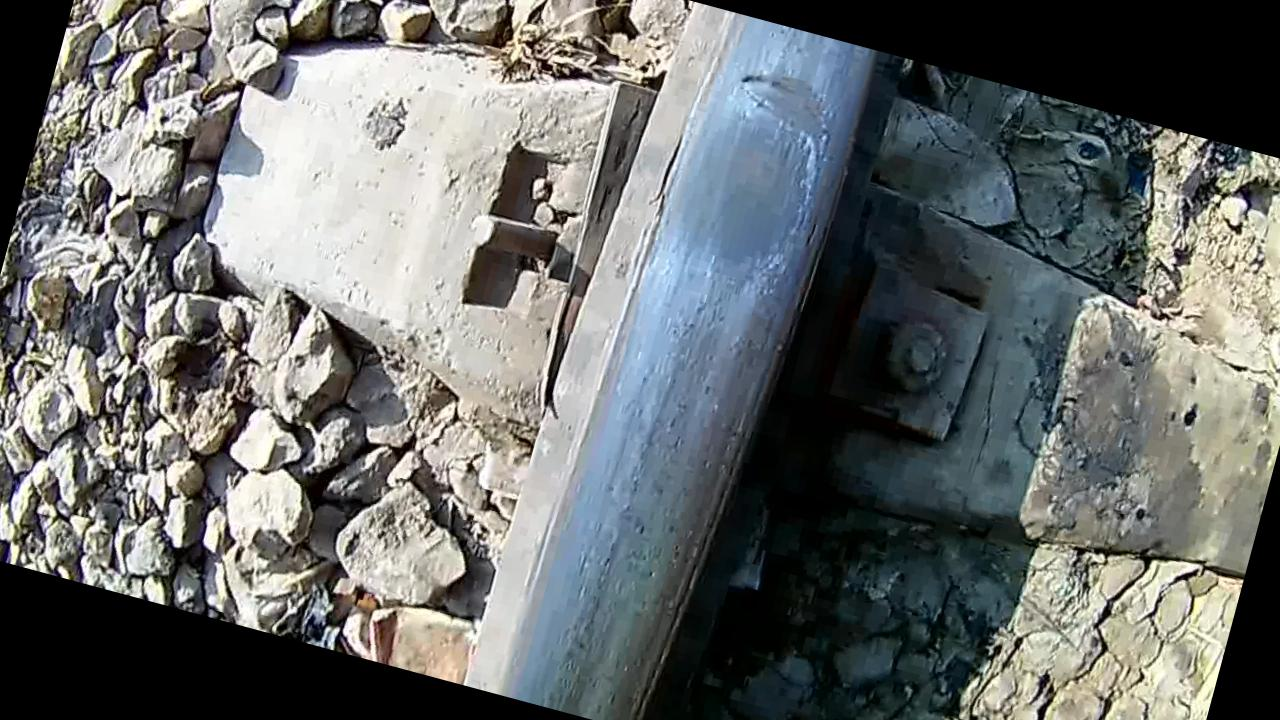bolt_missing: (576, 7, 880, 437)
